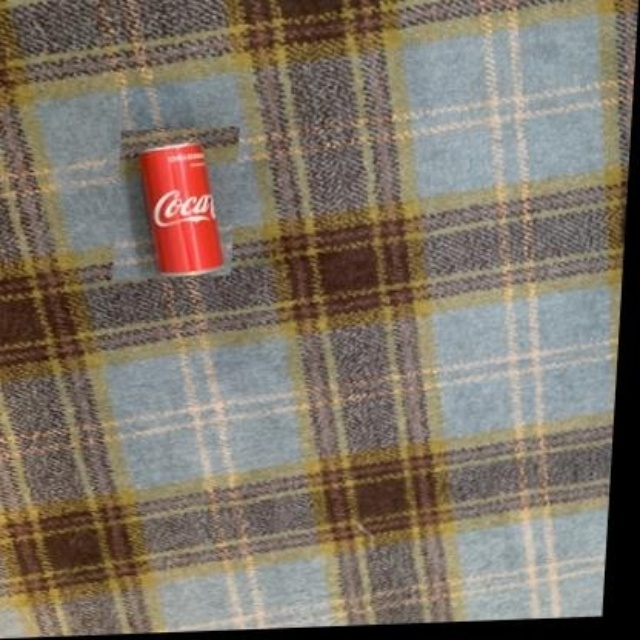trash: (140, 143, 220, 272)
